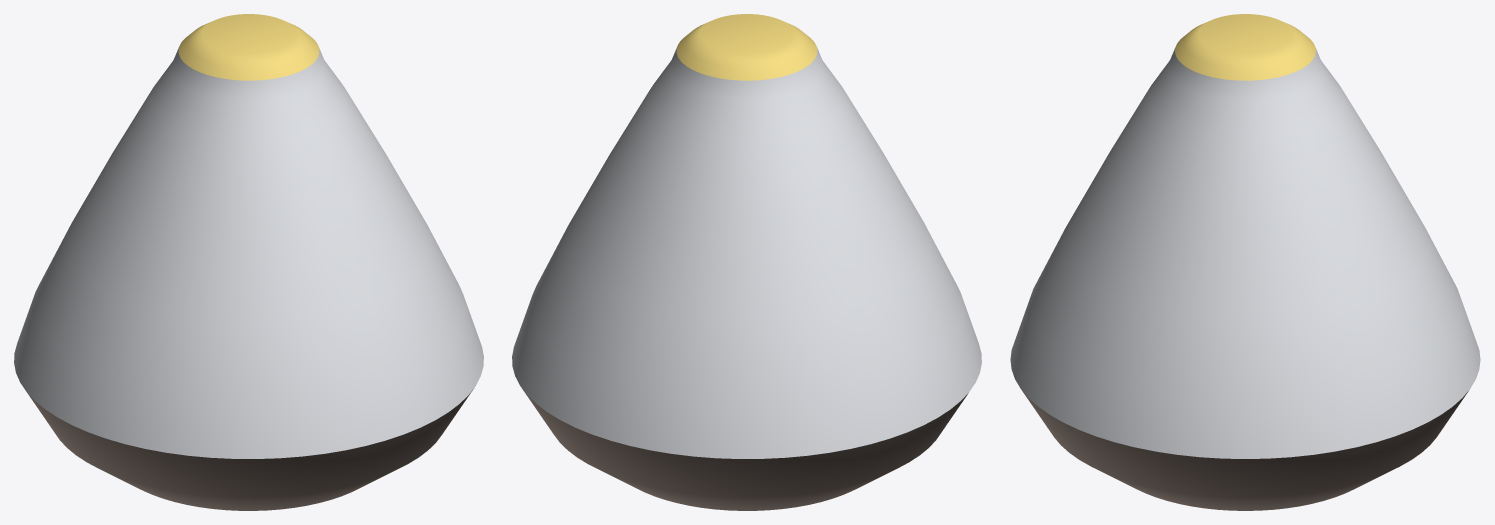
Rendered from capsula-demo.glb.
The picture shows the model from 3 angles, left to right: view 1: azimuth 30°, elevation 25°; view 2: azimuth 150°, elevation 25°; view 3: azimuth 270°, elevation 25°; orthographic projection.
Bounding box in the file's own units: 2 × 2.08 × 2.
